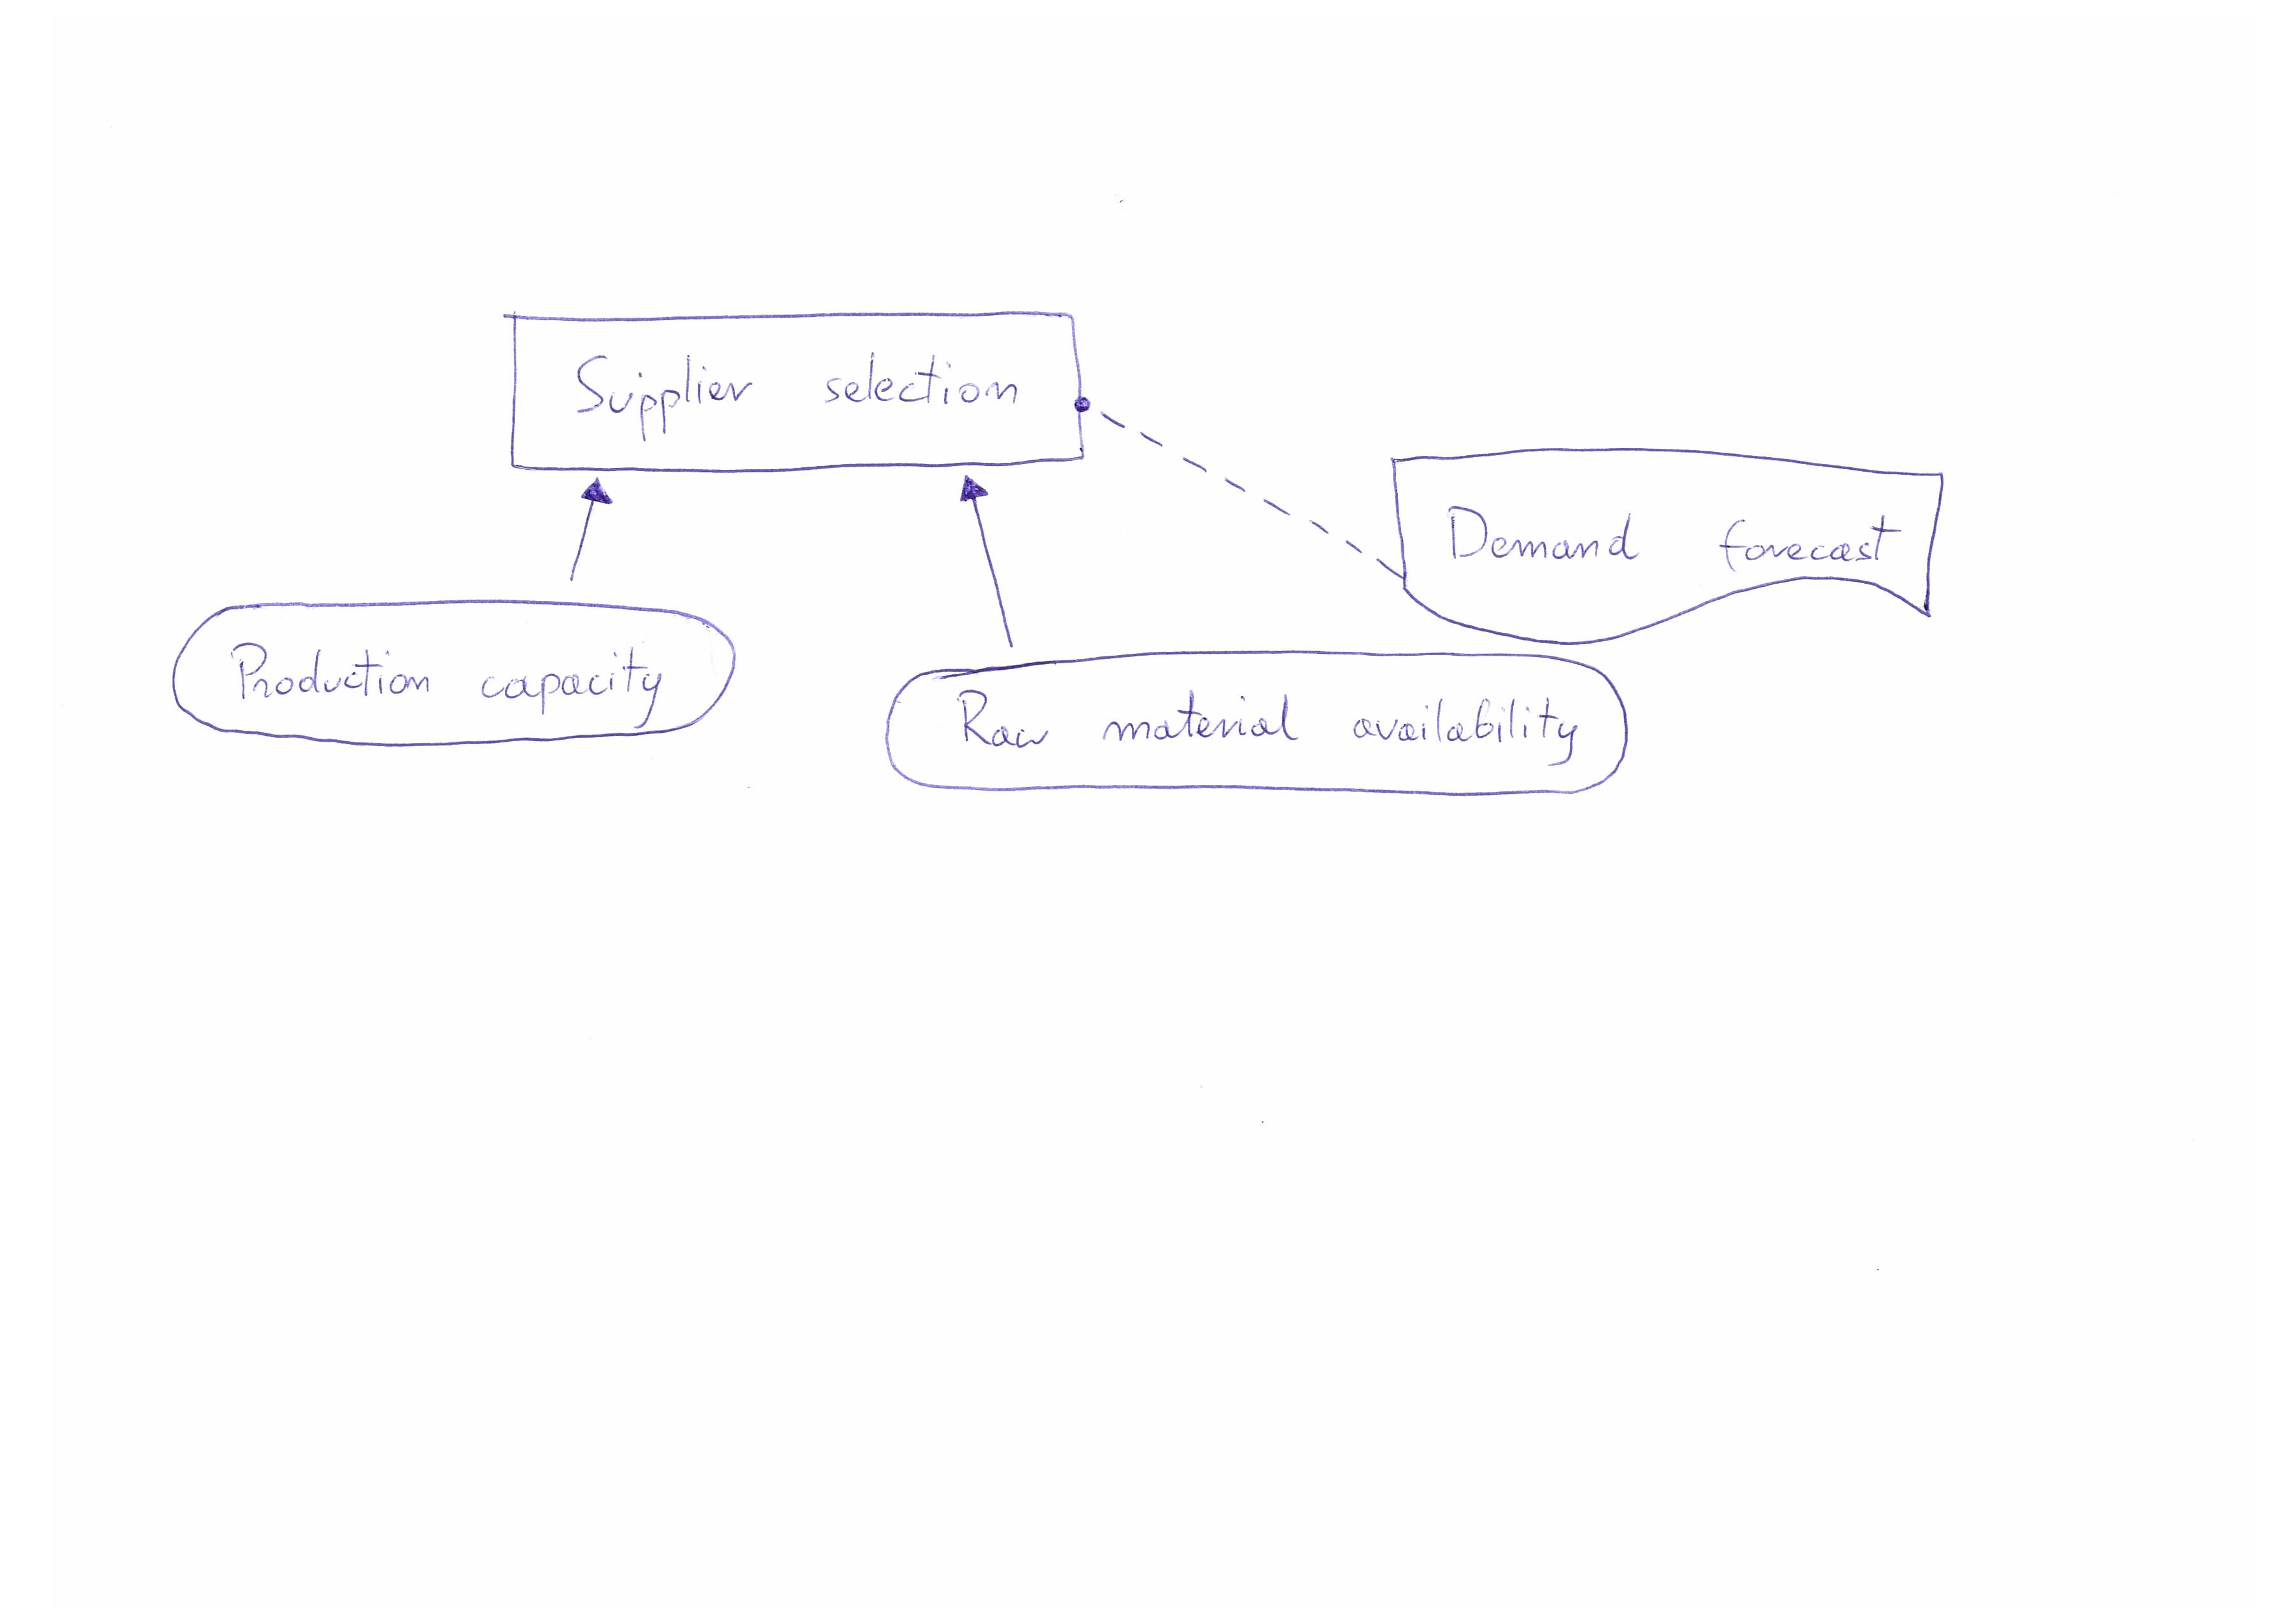arrow_authority_requirement: (1077, 383, 1406, 603)
arrow_information_requirement: (938, 471, 1035, 656), (550, 475, 631, 596)
node_decision: (494, 297, 1091, 478)
node_input_data: (854, 647, 1641, 807), (156, 591, 757, 763)
node_knowledge_source: (1388, 431, 1956, 649)
text: (952, 680, 1588, 777), (1434, 480, 1898, 576), (561, 346, 1035, 439), (220, 626, 678, 721)
